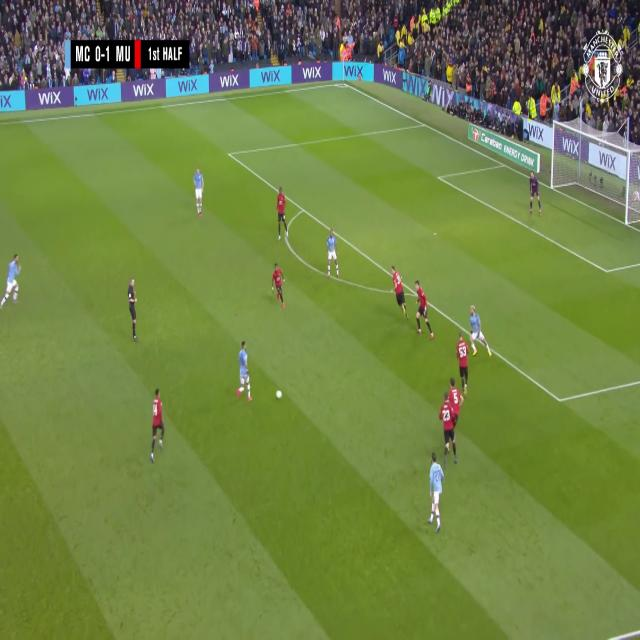Ball: (276, 393, 283, 400)
GoalKeeper: (529, 172, 544, 220)
TEAM 1: (429, 454, 447, 530), (469, 304, 492, 356), (1, 254, 21, 311), (236, 342, 252, 404), (325, 230, 339, 280), (193, 167, 204, 219)
TEAM 2: (440, 384, 456, 468), (151, 390, 168, 463), (414, 282, 435, 339), (392, 266, 409, 316), (458, 338, 472, 394), (277, 191, 291, 243), (271, 263, 286, 309), (448, 373, 461, 419)
